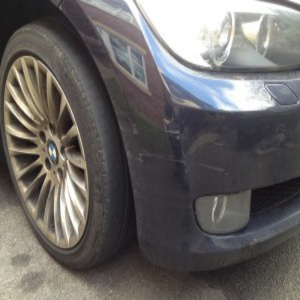bumper_scratch: (123, 110, 233, 178)
